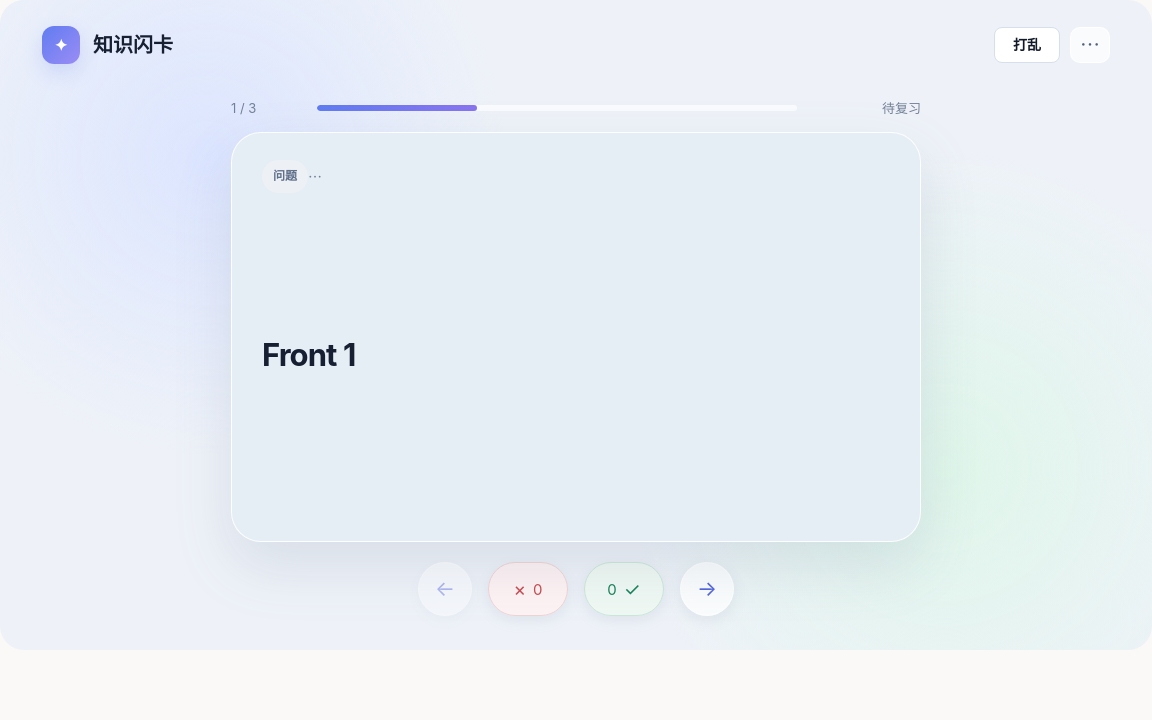
it: generated content renderers › shows retry controls on the final card and includes unrated cards as missed
Click the button named "答对 0". click: (624, 589)
box: [584, 562, 664, 616]
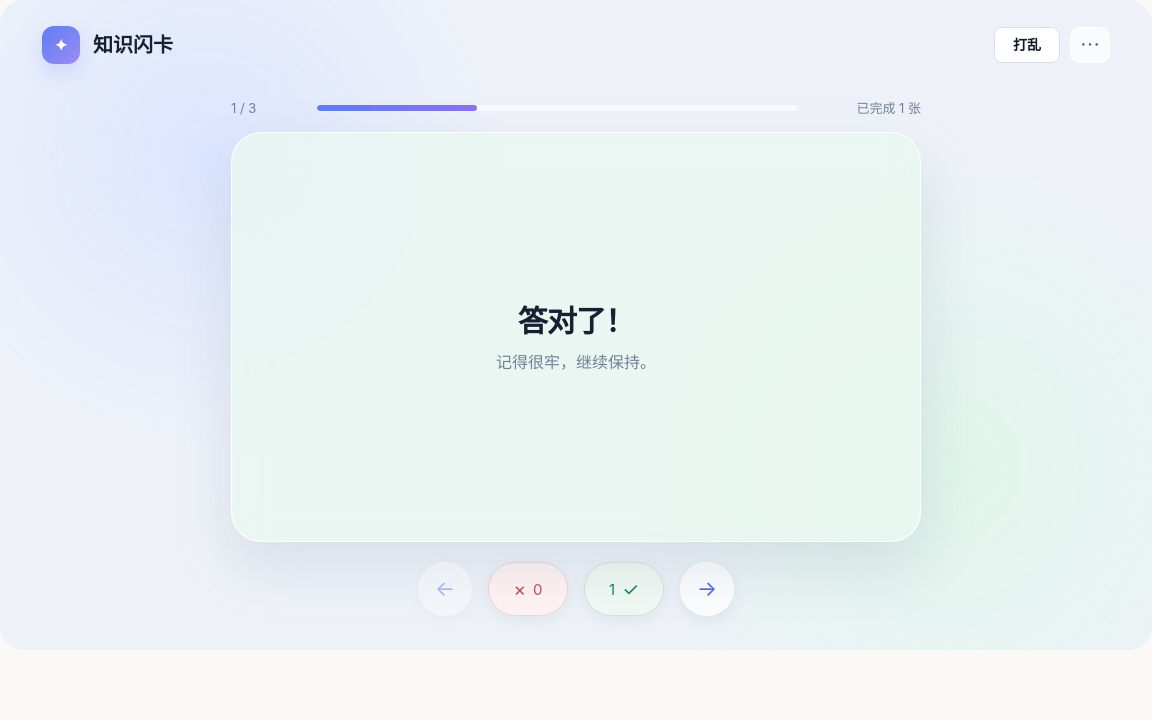
Click the button named "下一张". click: (707, 589)
box: [680, 562, 734, 616]
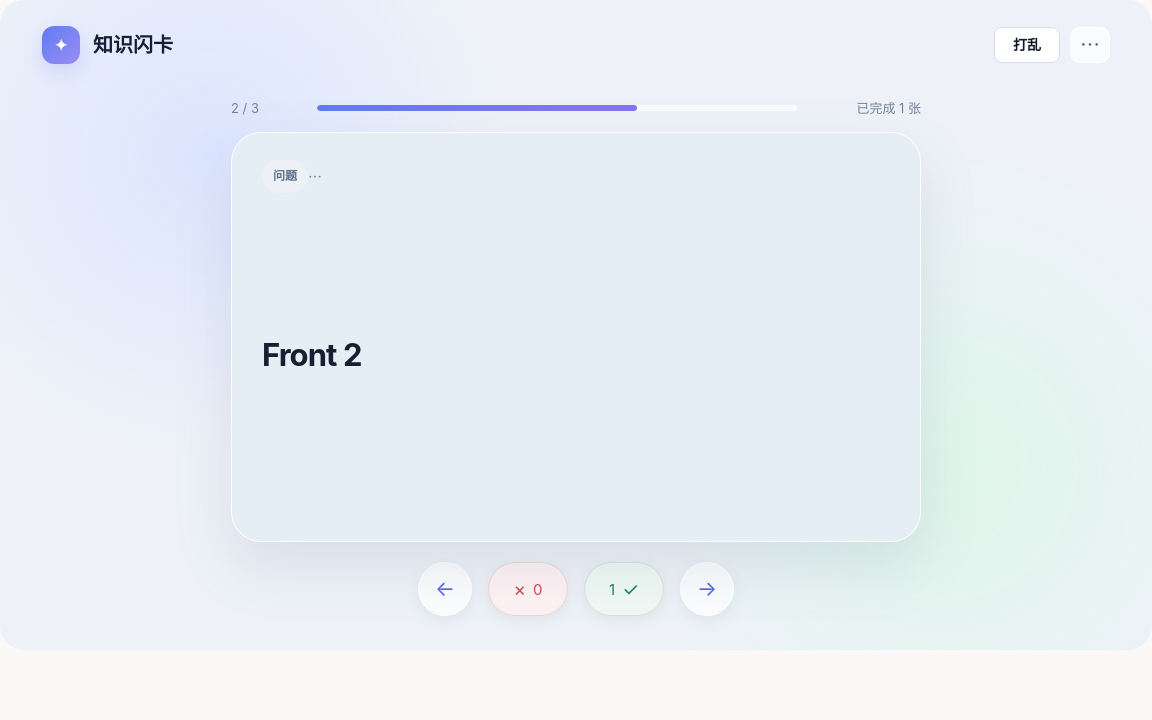
Click the button named "下一张". click: (707, 589)
box: [680, 562, 734, 616]
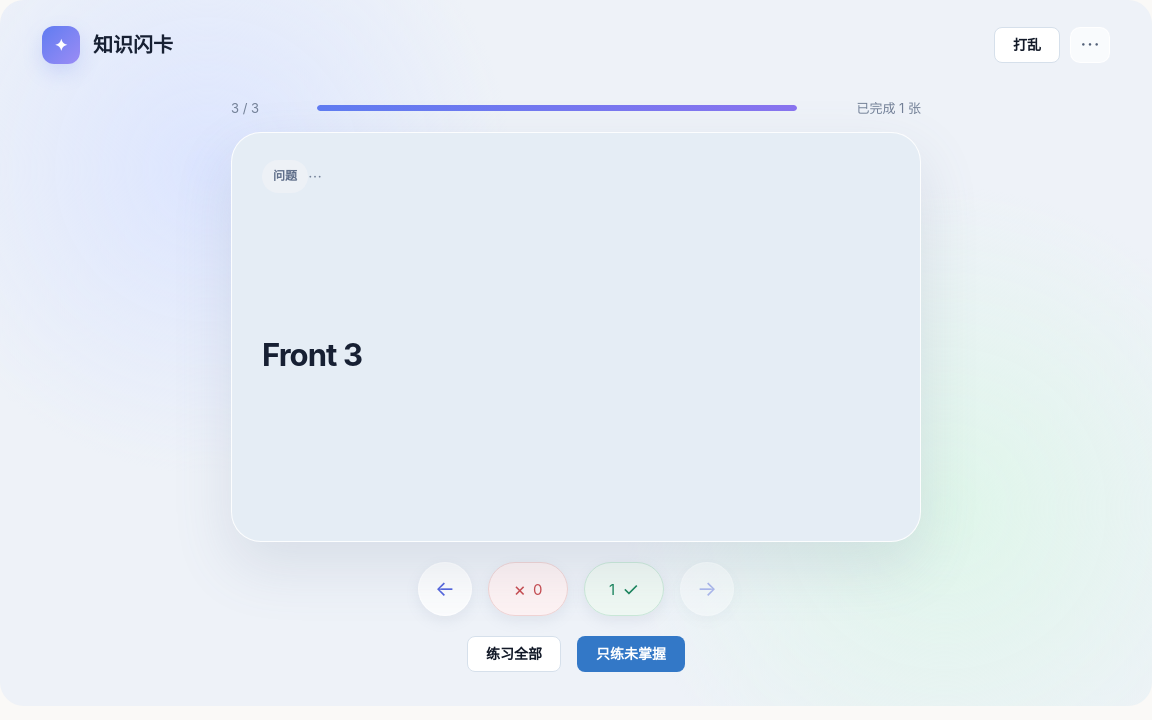
Check: the button "练习全部" is shown, box [467, 636, 561, 672]
Check: the button "只练未掌握" is enabled
Click the button "只练未掌握". click: (631, 654)
box: [577, 636, 685, 672]
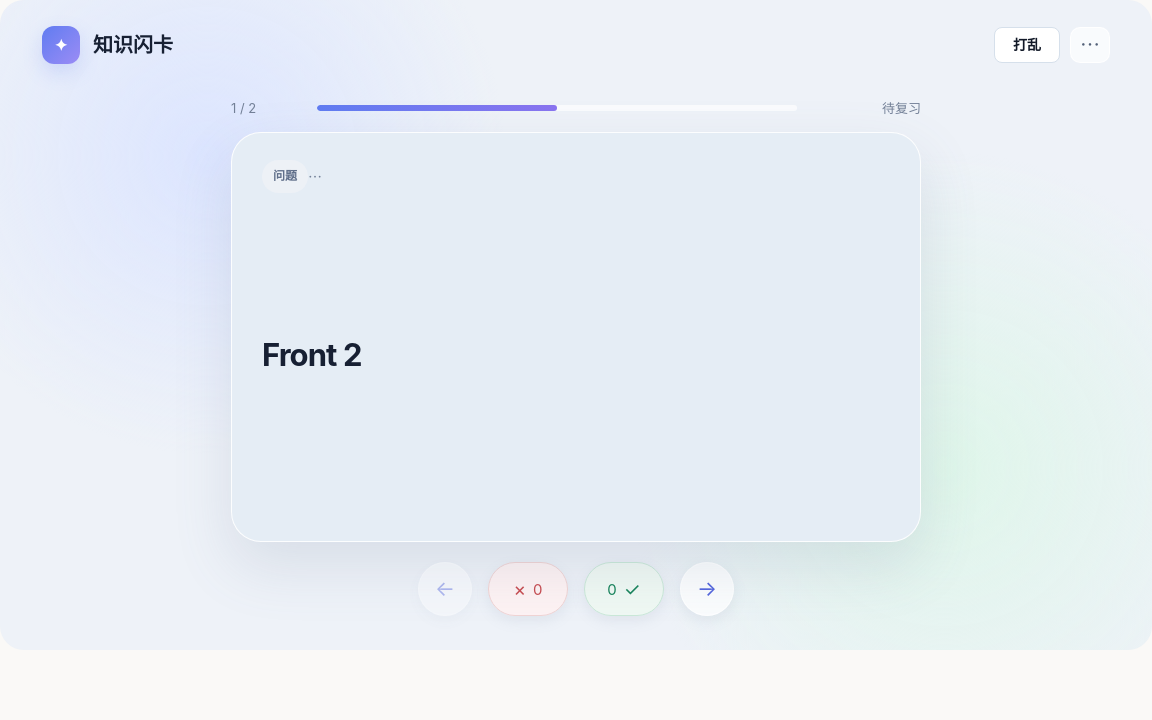
Check: the heading "Front 2" is shown, box [262, 334, 362, 375]
Check: the text "1 / 2" is shown, box [231, 100, 256, 116]
